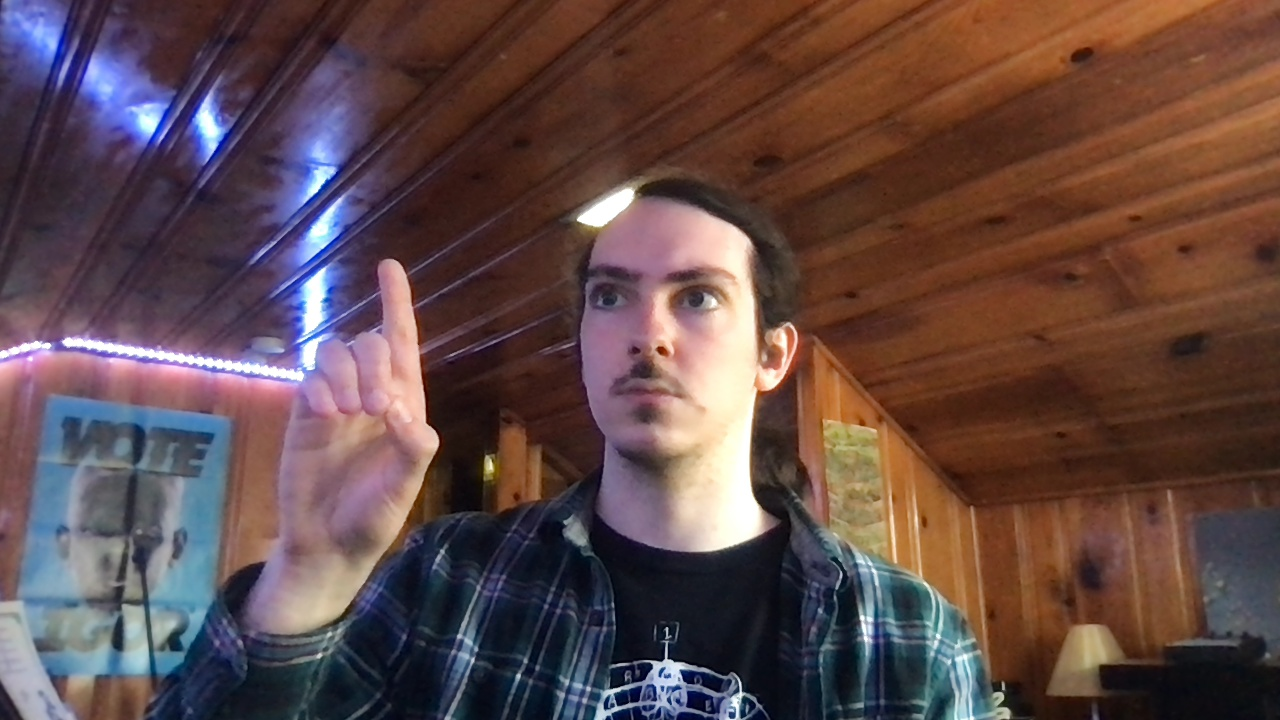d: (275, 256, 443, 562)
